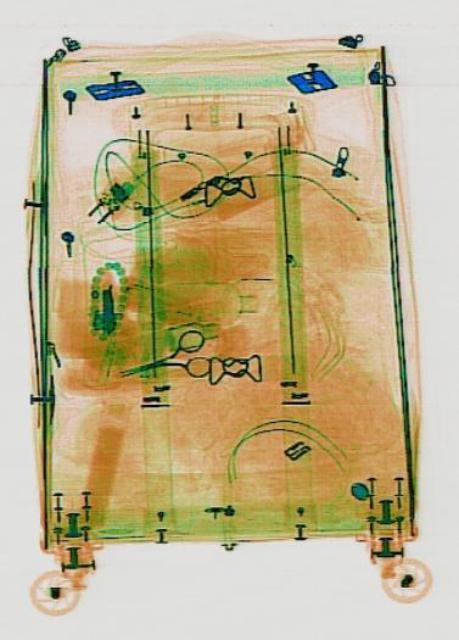Scissors: (112, 322, 211, 400)
